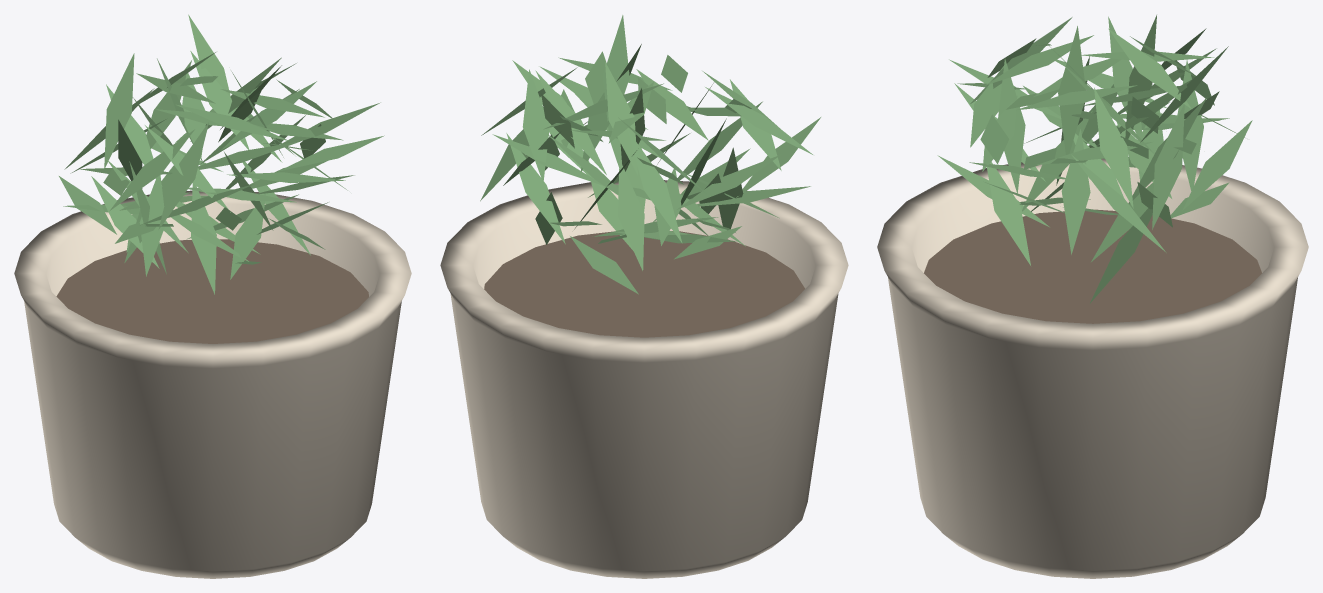
File: mo_plant_small.glb
The picture shows the model from 3 angles, left to right: view 1: azimuth 30°, elevation 25°; view 2: azimuth 150°, elevation 25°; view 3: azimuth 270°, elevation 25°; orthographic projection. The views are drawn at different scales.
Visible parts, largest first — view 1: pot, foliage, soil; view 2: pot, foliage, soil; view 3: pot, foliage, soil.
Part boxes in pixels (x1=…): pot: x1=14, y1=190, x2=411, y2=578; foliage: x1=59, y1=14, x2=384, y2=294; soil: x1=56, y1=239, x2=368, y2=343; pot: x1=440, y1=180, x2=848, y2=578; foliage: x1=480, y1=15, x2=820, y2=294; soil: x1=484, y1=231, x2=804, y2=337; pot: x1=877, y1=158, x2=1308, y2=578; foliage: x1=937, y1=15, x2=1252, y2=303; soil: x1=924, y1=209, x2=1261, y2=323.
Bounding box in the file's own units: 0.25 × 0.3197 × 0.25.
